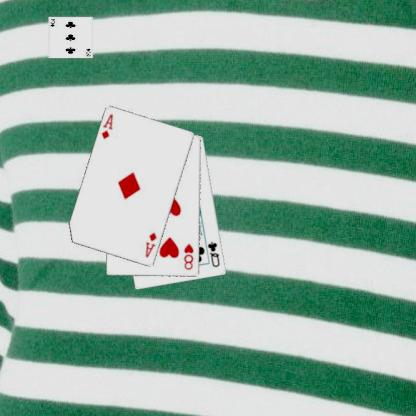8H: (181, 241, 195, 271)
AD: (142, 230, 158, 259), (99, 111, 114, 141)
QC: (205, 238, 221, 268)
